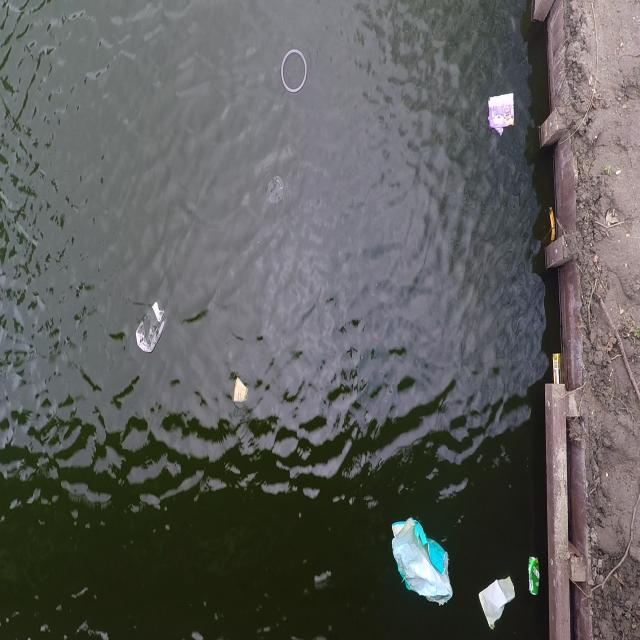Non plastique: (524, 554, 544, 604), (229, 374, 250, 409)
Sac plastique: (383, 512, 459, 612), (132, 293, 170, 362)
